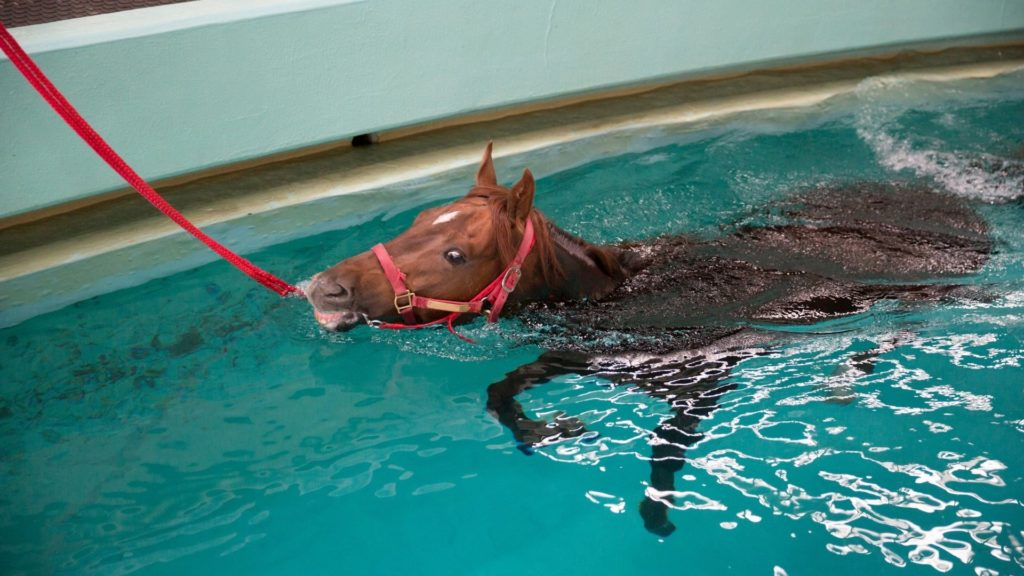Horse: (204, 123, 995, 485)
